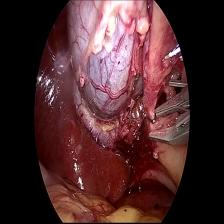Clipper: (145, 80, 192, 164)
